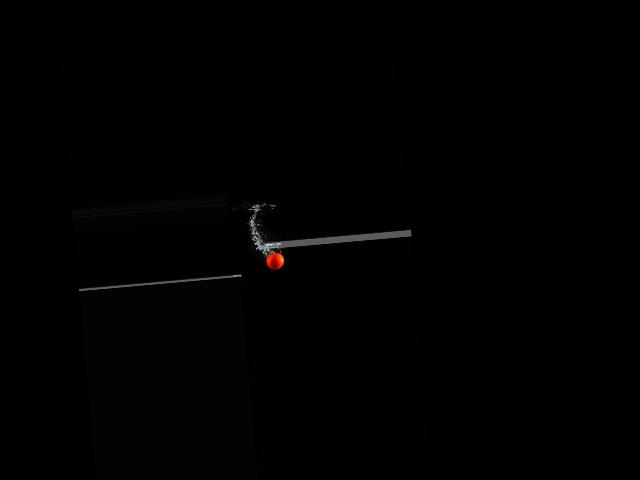tomato: (266, 252, 285, 269)
